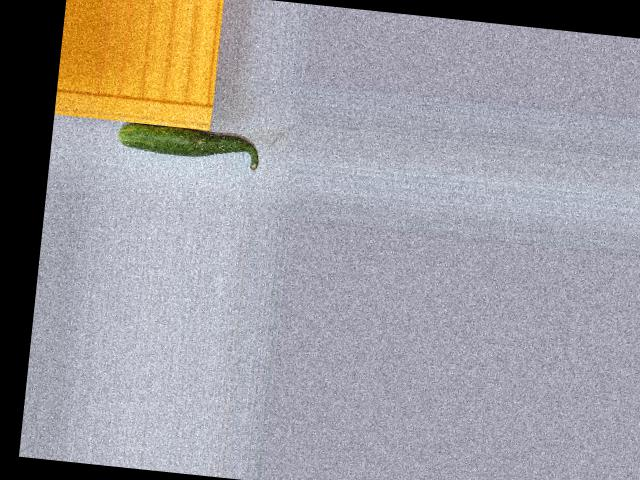cucumber: (117, 120, 262, 171)
